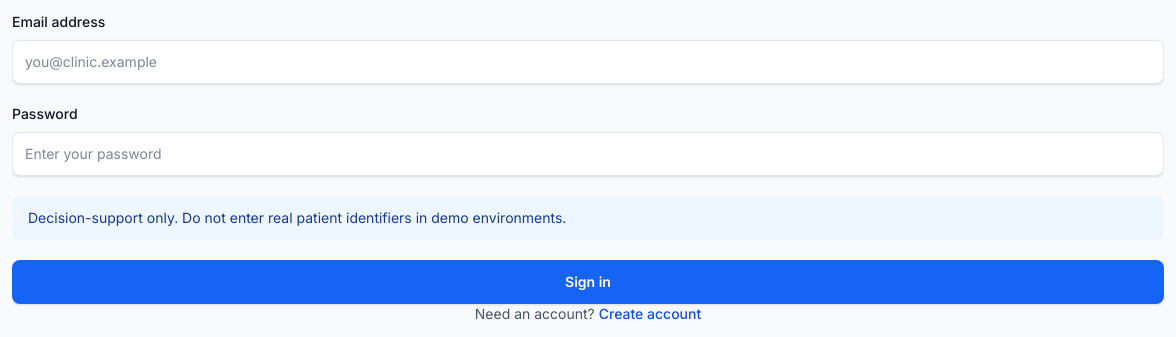
LoginForm › shows dedicated email_not_verified message (en)
The width and height of the screenshot is (1176, 337).
In the field labelled "Email address": (588, 62) [12,40,1164,84], type "user@example.com"
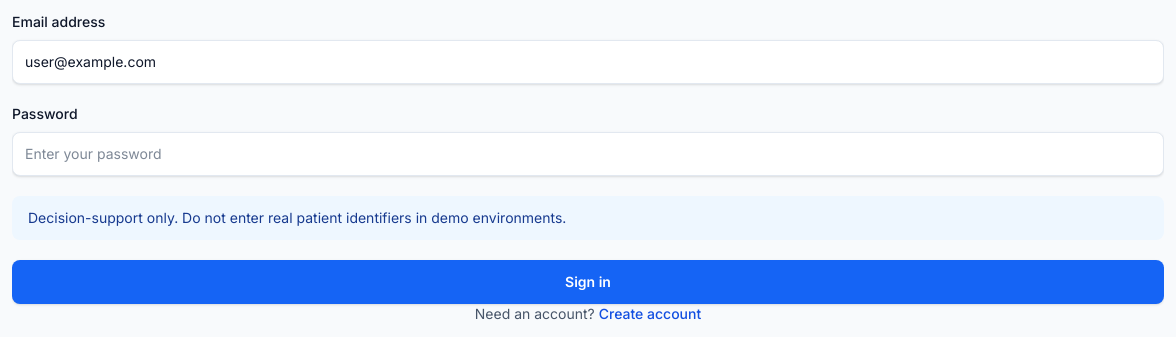
In the password field labelled "Password": (588, 154) [12,132,1164,176], type "securepass123"
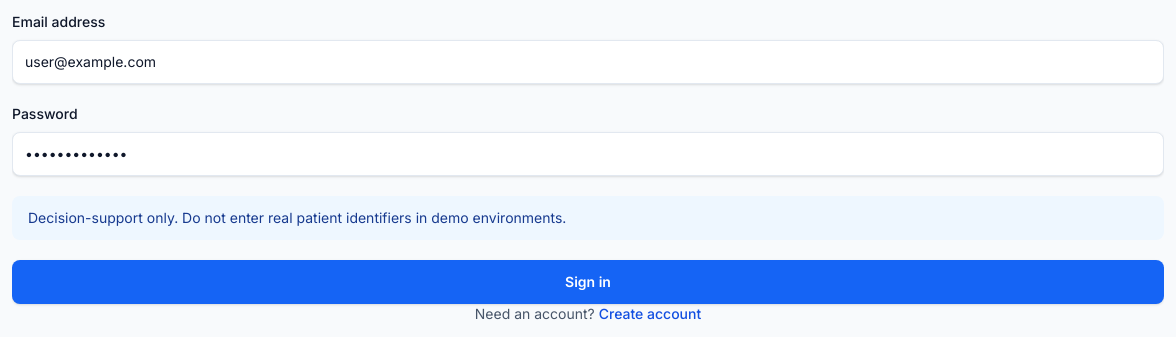
Click the button "Sign in": (588, 282) [12,260,1164,304]
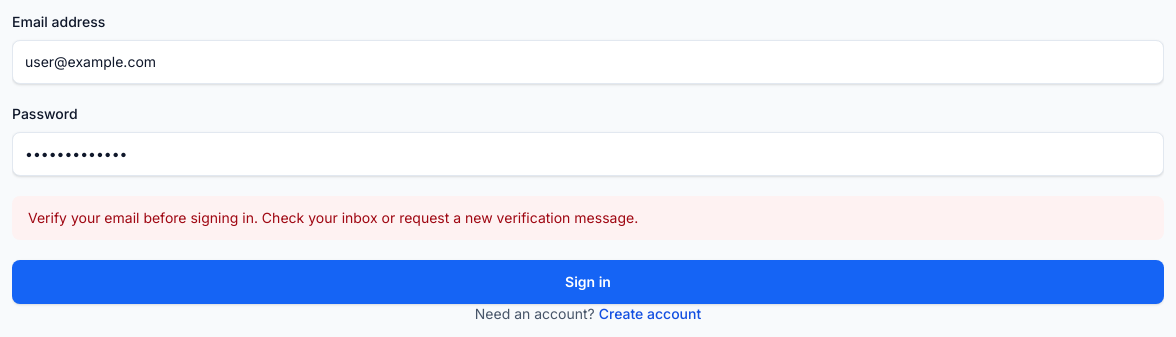
Check: the message shows "Verify your email before signing in. Check your inbox or request a new verification message.", box [28,209,638,226]
